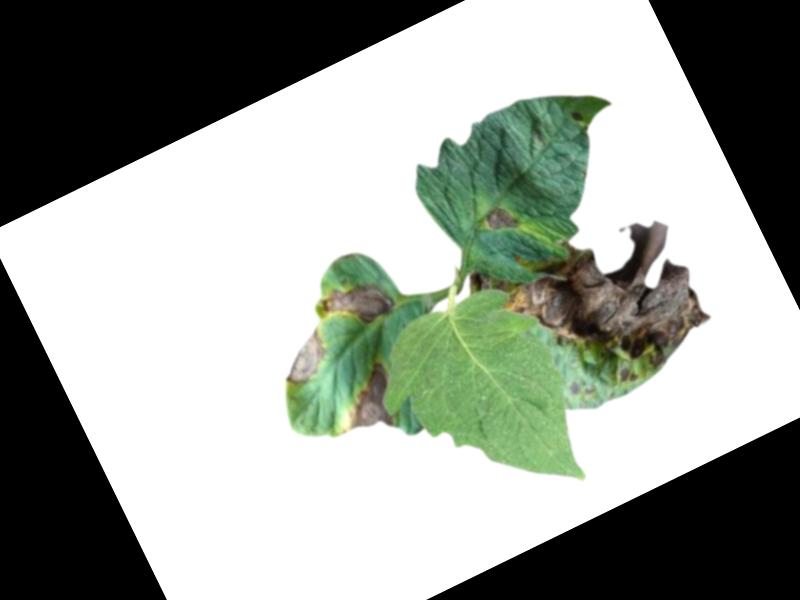Early_blight: (488, 194, 722, 420), (322, 361, 408, 446), (315, 267, 398, 341), (269, 328, 336, 391), (479, 200, 521, 242), (462, 267, 493, 297), (567, 106, 587, 128)
healthy: (348, 259, 610, 547)
